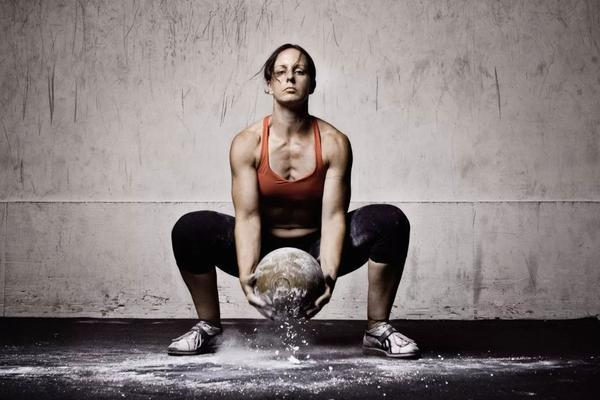Squat: (169, 42, 420, 372)
